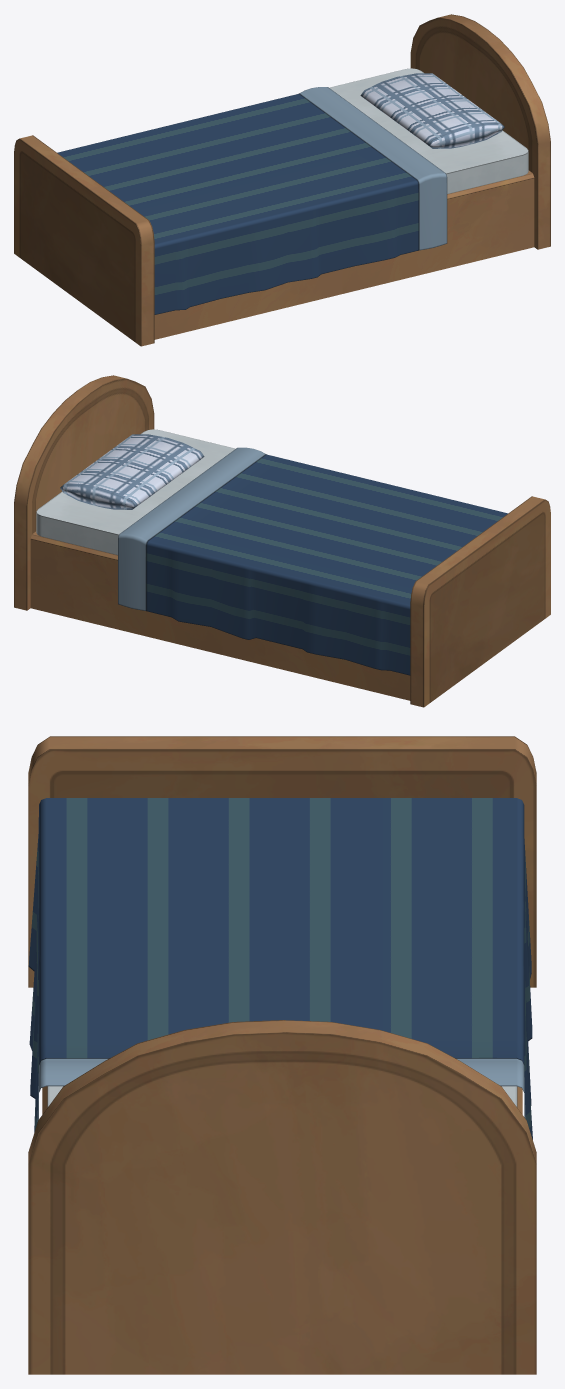
Rendered from bed1.fbx.
3 views of the same model, one above another, from view 1: azimuth 30°, elevation 25°; view 2: azimuth 150°, elevation 25°; view 3: azimuth 270°, elevation 25° (orthographic). The views are drawn at different scales.
Visible parts, largest first — view 1: polySurface557; view 2: polySurface557; view 3: polySurface557.
Boxes of the visible parts, left/top/right/bottom form: polySurface557: left=14, top=14, right=550, bottom=346; polySurface557: left=14, top=375, right=550, bottom=707; polySurface557: left=28, top=736, right=536, bottom=1374.
Size of the model in its own units: 2.53 by 1.01 by 1.36.
